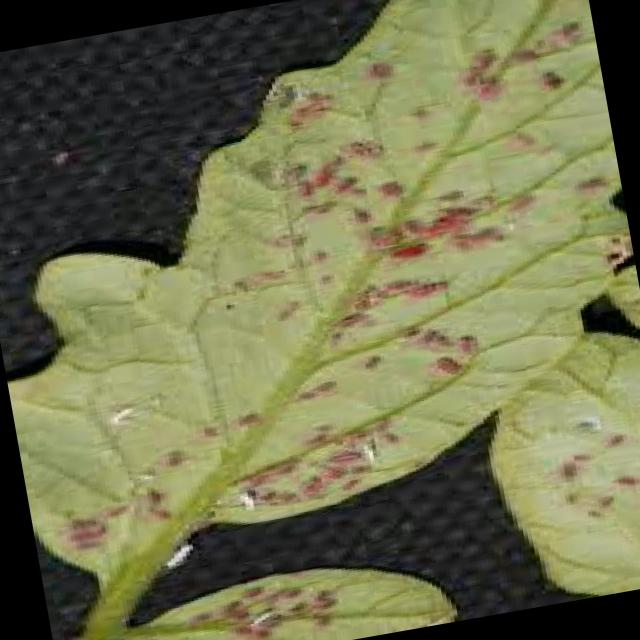aphid: (422, 345, 479, 385), (528, 58, 584, 98), (398, 272, 463, 304), (354, 50, 413, 84), (378, 235, 441, 265), (498, 184, 550, 219), (506, 116, 550, 152), (150, 442, 201, 472), (572, 167, 622, 197), (508, 38, 552, 72), (326, 167, 374, 196), (402, 95, 448, 124), (323, 442, 373, 468), (100, 494, 142, 524), (454, 324, 491, 358), (344, 198, 386, 227), (354, 345, 396, 374), (553, 454, 589, 486), (310, 369, 352, 396), (408, 130, 454, 154), (304, 590, 350, 614), (563, 442, 609, 466), (465, 44, 504, 72), (276, 156, 315, 184), (332, 470, 374, 496), (290, 171, 326, 201), (596, 426, 639, 451), (137, 481, 176, 508), (232, 404, 274, 429), (190, 418, 232, 443), (393, 318, 432, 344), (375, 422, 414, 448), (238, 576, 280, 600), (224, 272, 263, 296), (268, 456, 307, 480), (288, 382, 330, 404), (186, 602, 221, 628), (144, 500, 182, 522), (225, 618, 263, 640), (555, 484, 593, 506), (607, 465, 640, 490), (577, 501, 612, 524), (307, 242, 342, 264), (306, 416, 344, 436), (303, 426, 341, 446), (322, 324, 352, 348), (312, 266, 346, 287), (598, 485, 626, 507)
